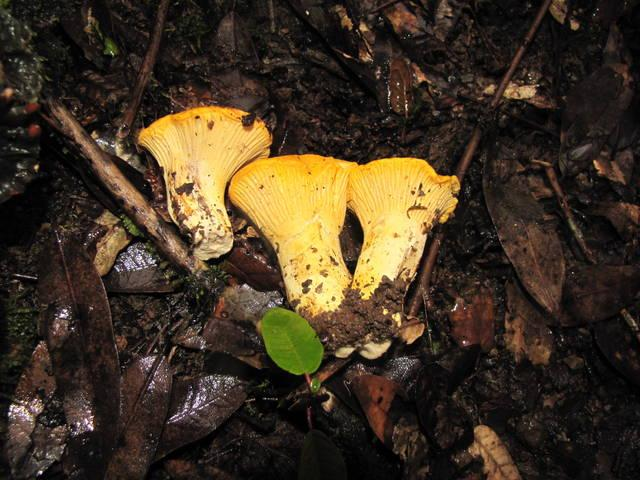Edible Mushroom: (227, 151, 460, 358), (135, 104, 272, 261)
